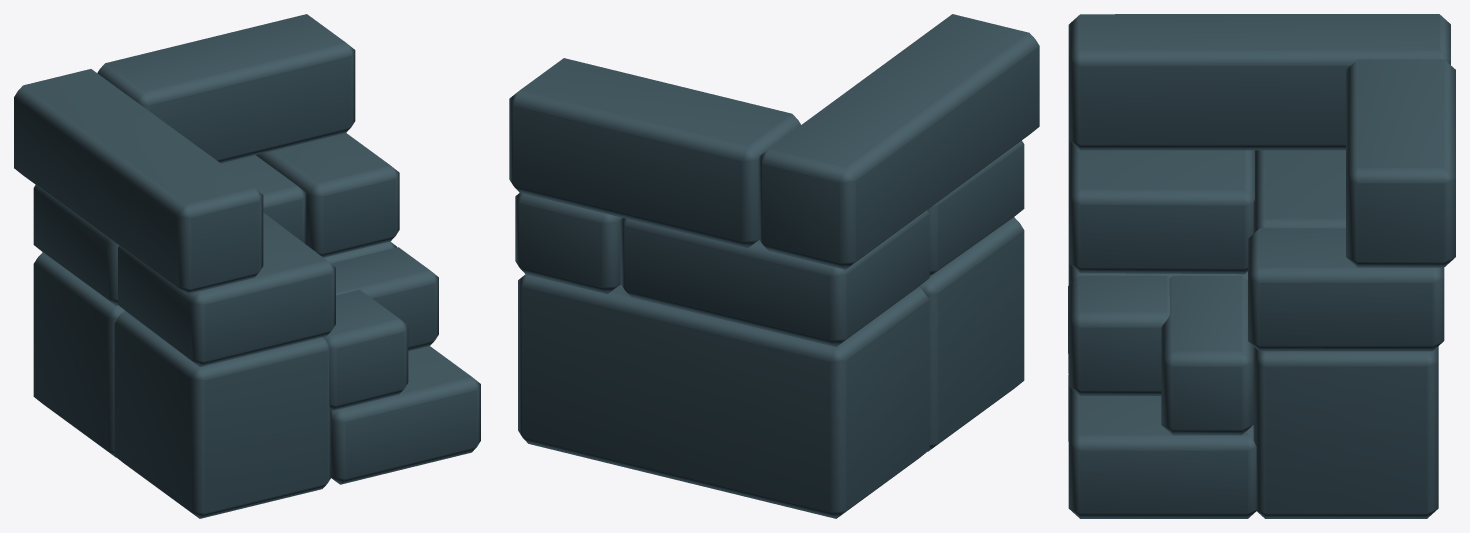
File: stair_corner_concave_hue_3.fbx
3 views of the same model, side by side, from view 1: azimuth 30°, elevation 25°; view 2: azimuth 150°, elevation 25°; view 3: azimuth 270°, elevation 25° (orthographic). The views are drawn at different scales.
Parts seen in each view (by area): view 1: stair_corner_concave_hue_3; view 2: stair_corner_concave_hue_3; view 3: stair_corner_concave_hue_3.
Boxes of the visible parts, <box> form: stair_corner_concave_hue_3: <box>14,14,480,518</box>; stair_corner_concave_hue_3: <box>509,14,1039,518</box>; stair_corner_concave_hue_3: <box>1068,14,1455,518</box>.
Size of the model in its own units: 105 by 105 by 105.
